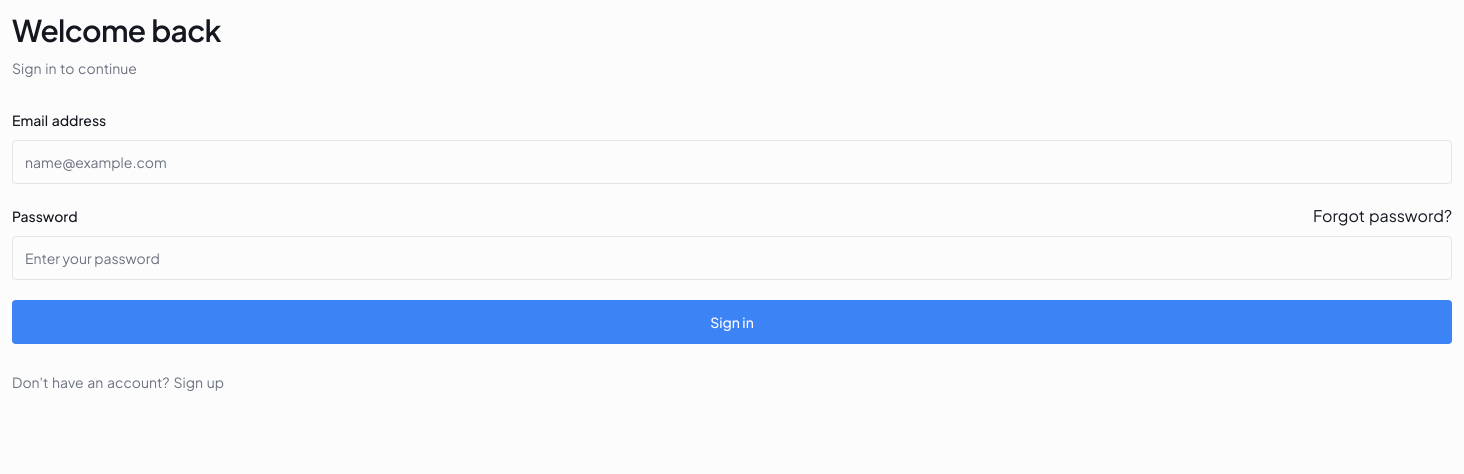
Test: SignInForm › shows an error message when signIn returns an error
Type "bad@example.com" into the field labelled "Email address" at [732, 162], box [12, 140, 1452, 184]
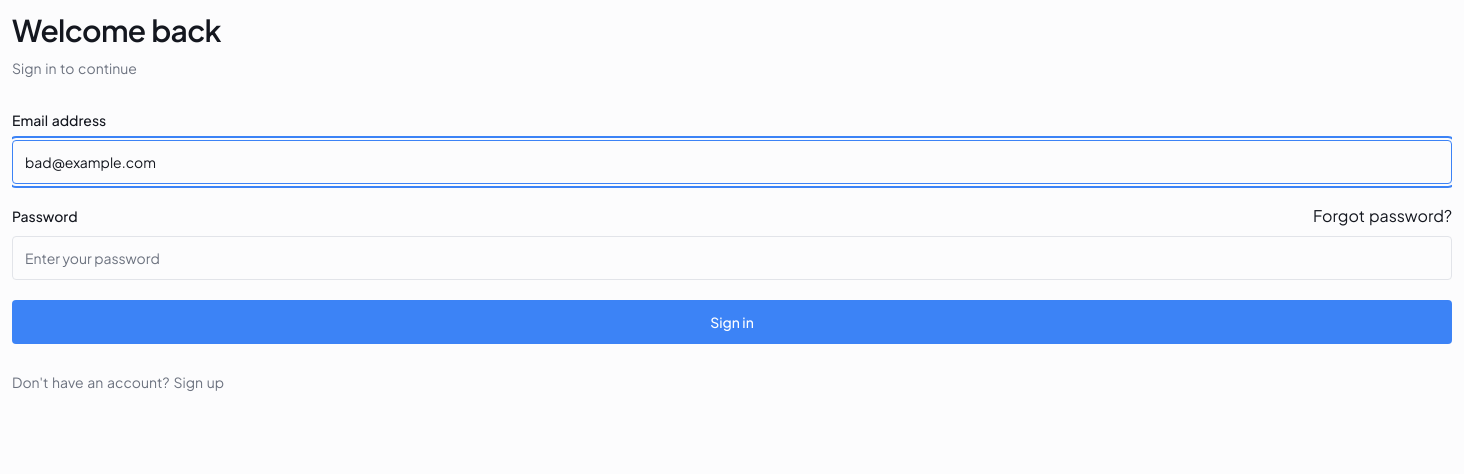
Type "wrongpassword" into the password field labelled "Password" at [732, 258], box [12, 236, 1452, 280]
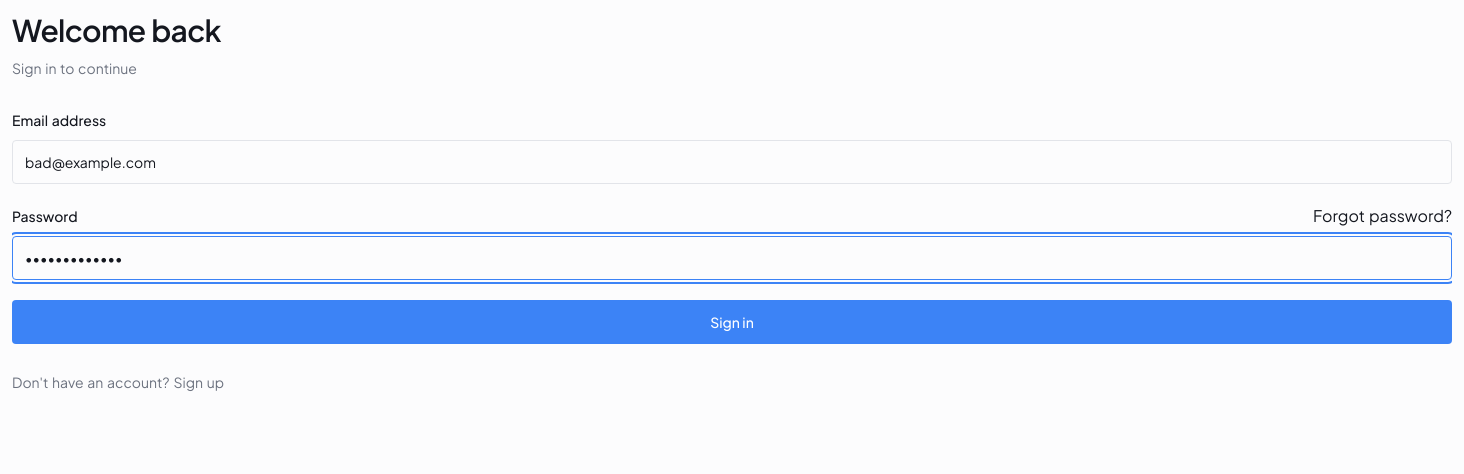
Click the button "Sign in" at [732, 322], box [12, 300, 1452, 344]
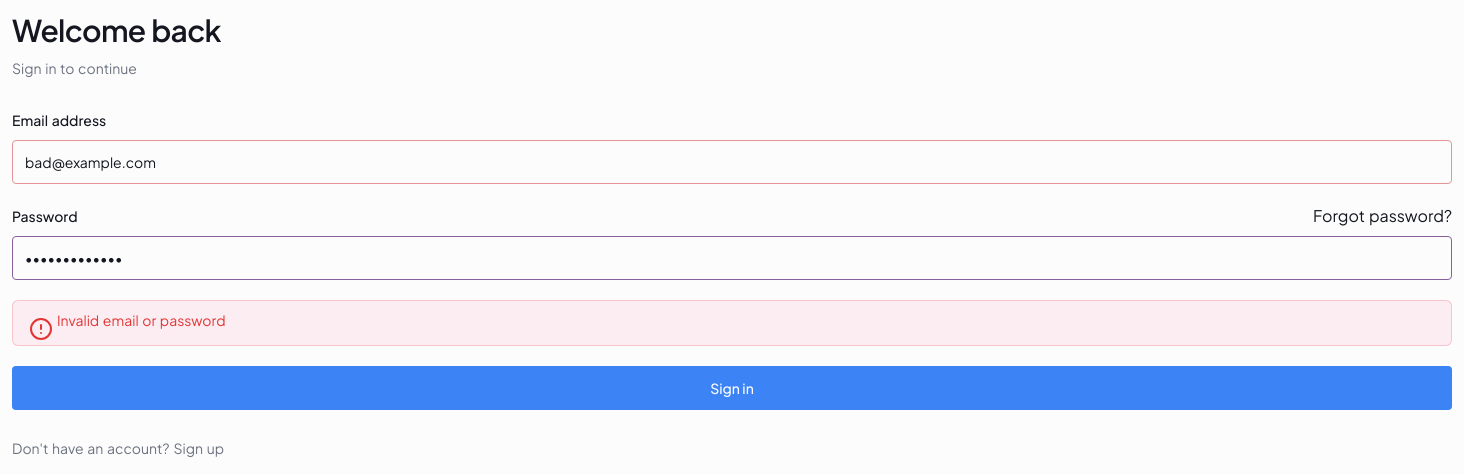
Result: the message reads "Invalid email or password" at [57, 311, 226, 329]
